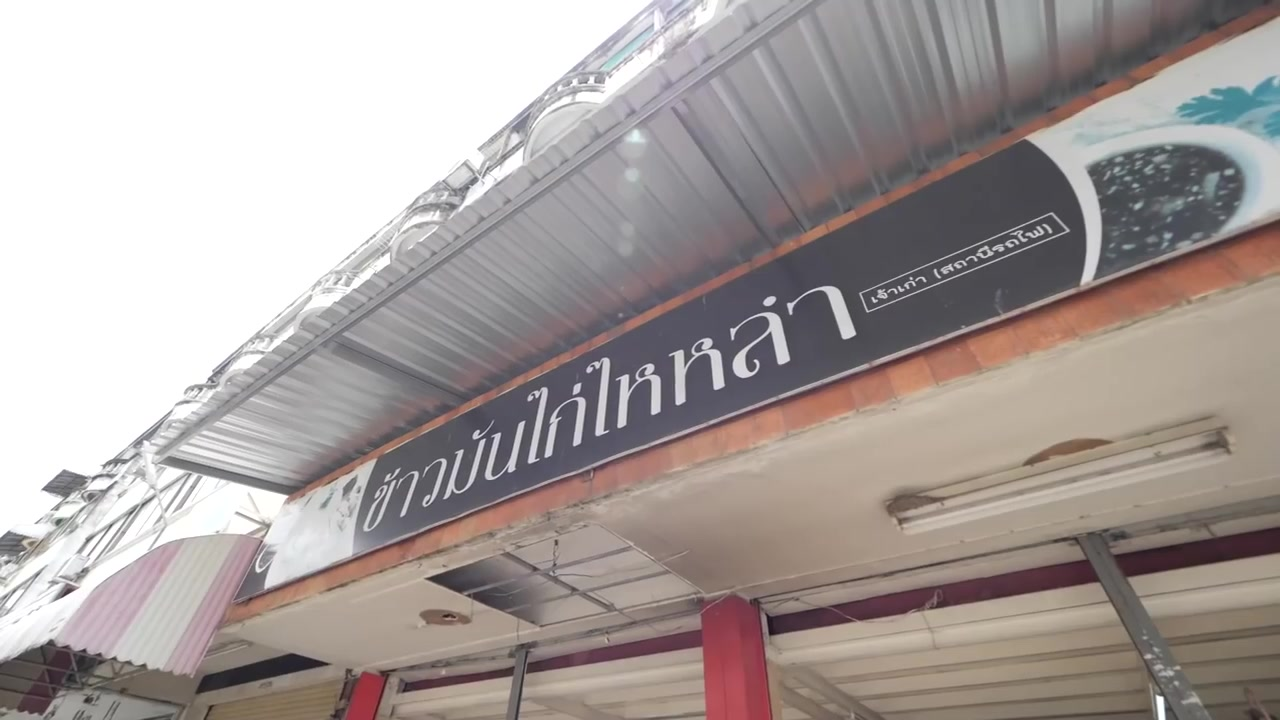text-label: (356, 213, 1071, 540)
